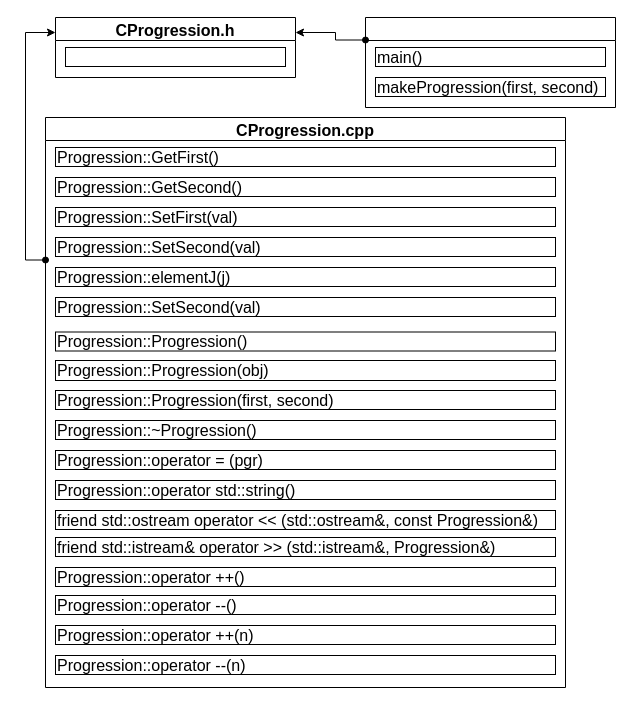
This 633x705 diagram has some shape labels left out. The shapes that lost their labels are listed below. From the top down, each one's box as (x1, y1, x2, y2) in pixels, then its label:
(64, 46, 286, 66): class Progression
(364, 16, 616, 108): main.cpp
